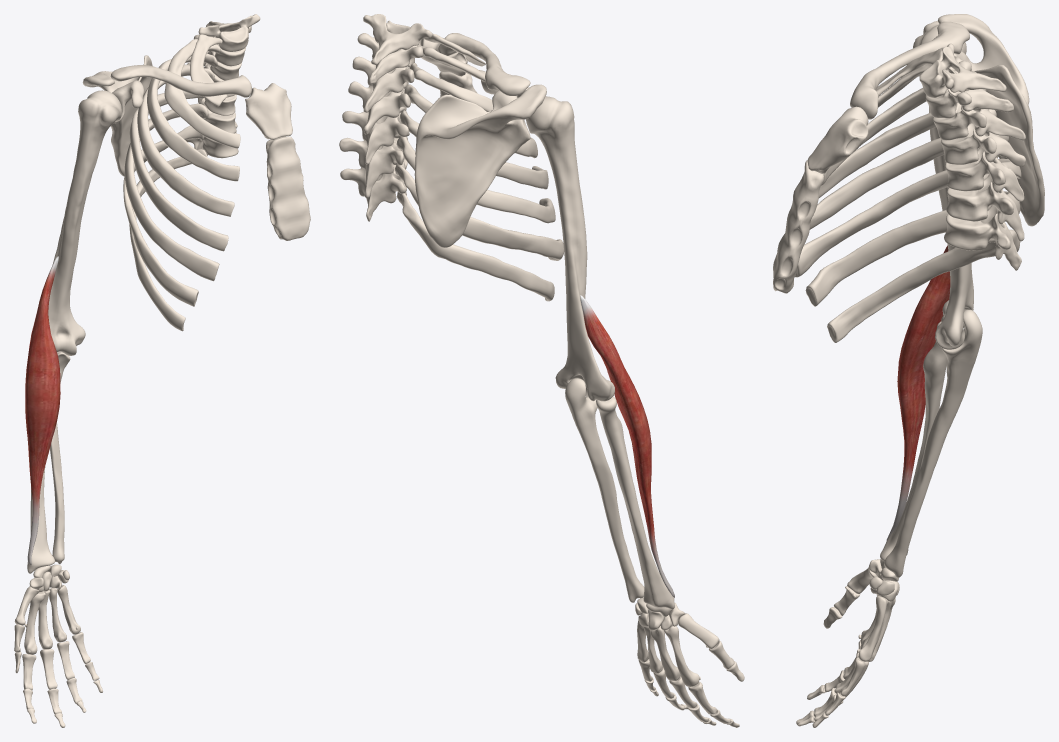
The model's file is overview-demo.glb.
3 renders of one model, left to right at view 1: azimuth 30°, elevation 25°; view 2: azimuth 150°, elevation 25°; view 3: azimuth 270°, elevation 25°, orthographic. The views are drawn at different scales.
Visible parts, largest first — view 1: Humerus.r, Brachioradialis muscle.r, Body of sternum, Rib (6th).r, Rib (4th).r, Rib (5th).r, Scapula.r, Rib (3rd).r, Rib (7th).r, Rib (2nd).r, Clavicle.r, Manubrium of sternum (+9 smaller); view 2: Scapula.r, Humerus.r, Brachioradialis muscle.r, Ulna.r, Radius.r, Rib (8th).r, Rib (7th).r, Clavicle.r, Rib (6th).r, Thoracic vertebrae (T1), Thoracic vertebrae (T6), Thoracic vertebrae (T5) (+9 smaller); view 3: Scapula.r, Brachioradialis muscle.r, Ulna.r, Rib (8th).r, Rib (7th).r, Rib (6th).r, Humerus.r, Body of sternum, Rib (5th).r, Clavicle.r, Thoracic vertebrae (T7), Thoracic vertebrae (T6) (+12 smaller).
Part boxes in pixels (x1,y1,x2,y2): Humerus.r: (48, 90, 121, 355); Brachioradialis muscle.r: (25, 256, 60, 565); Body of sternum: (266, 136, 310, 240); Rib (6th).r: (124, 103, 219, 281); Rib (4th).r: (137, 64, 234, 216); Rib (5th).r: (129, 91, 228, 251); Scapula.r: (82, 55, 152, 176); Rib (3rd).r: (147, 53, 239, 181); Rib (7th).r: (123, 125, 204, 306); Rib (2nd).r: (164, 38, 240, 148); Clavicle.r: (110, 65, 251, 97); Manubrium of sternum: (245, 83, 292, 139); Scapula.r: (414, 84, 546, 247); Humerus.r: (526, 96, 614, 401); Brachioradialis muscle.r: (580, 295, 674, 597); Ulna.r: (565, 378, 644, 602); Radius.r: (596, 396, 674, 608); Rib (8th).r: (397, 192, 554, 301); Rib (7th).r: (395, 162, 563, 260); Clavicle.r: (438, 33, 530, 95); Rib (6th).r: (396, 136, 555, 223); Thoracic vertebrae (T1): (363, 14, 432, 64); Thoracic vertebrae (T6): (339, 137, 404, 197); Thoracic vertebrae (T5): (342, 111, 409, 164); Scapula.r: (938, 14, 1044, 226); Brachioradialis muscle.r: (886, 245, 950, 540); Ulna.r: (884, 309, 982, 577); Rib (8th).r: (827, 229, 1020, 342); Rib (7th).r: (805, 191, 1020, 306); Rib (6th).r: (795, 158, 1021, 277); Humerus.r: (913, 20, 973, 349); Body of sternum: (773, 160, 823, 293); Rib (5th).r: (809, 134, 1008, 229); Clavicle.r: (850, 21, 969, 119); Thoracic vertebrae (T7): (944, 205, 1021, 270); Thoracic vertebrae (T6): (946, 168, 1024, 241).
Bounding box in the file's own units: 0.3748 × 0.7538 × 0.2295.
51 materials, 1 textured.
